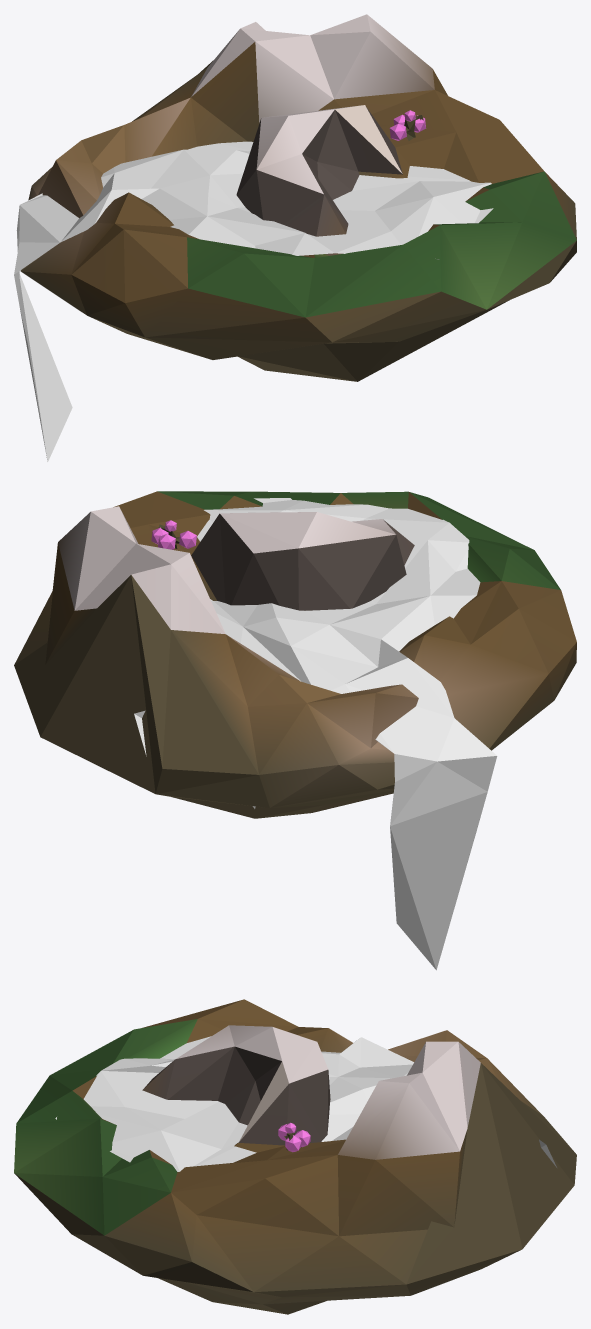
File: floatingisland2.fbx
The picture shows the model from 3 angles, top to bottom: view 1: azimuth 30°, elevation 25°; view 2: azimuth 150°, elevation 25°; view 3: azimuth 270°, elevation 25°; orthographic projection. The views are drawn at different scales.
Visible parts, largest first — view 1: island, water; view 2: island, water; view 3: island, water.
Boxes of the visible parts, left/top/right/bottom form: island: left=20, top=14, right=576, bottom=381; water: left=14, top=141, right=493, bottom=461; island: left=14, top=491, right=576, bottom=818; water: left=134, top=498, right=497, bottom=970; island: left=14, top=999, right=576, bottom=1314; water: left=55, top=1036, right=556, bottom=1171.
Bounding box in the file's own units: 1755 × 1285 × 1817.
